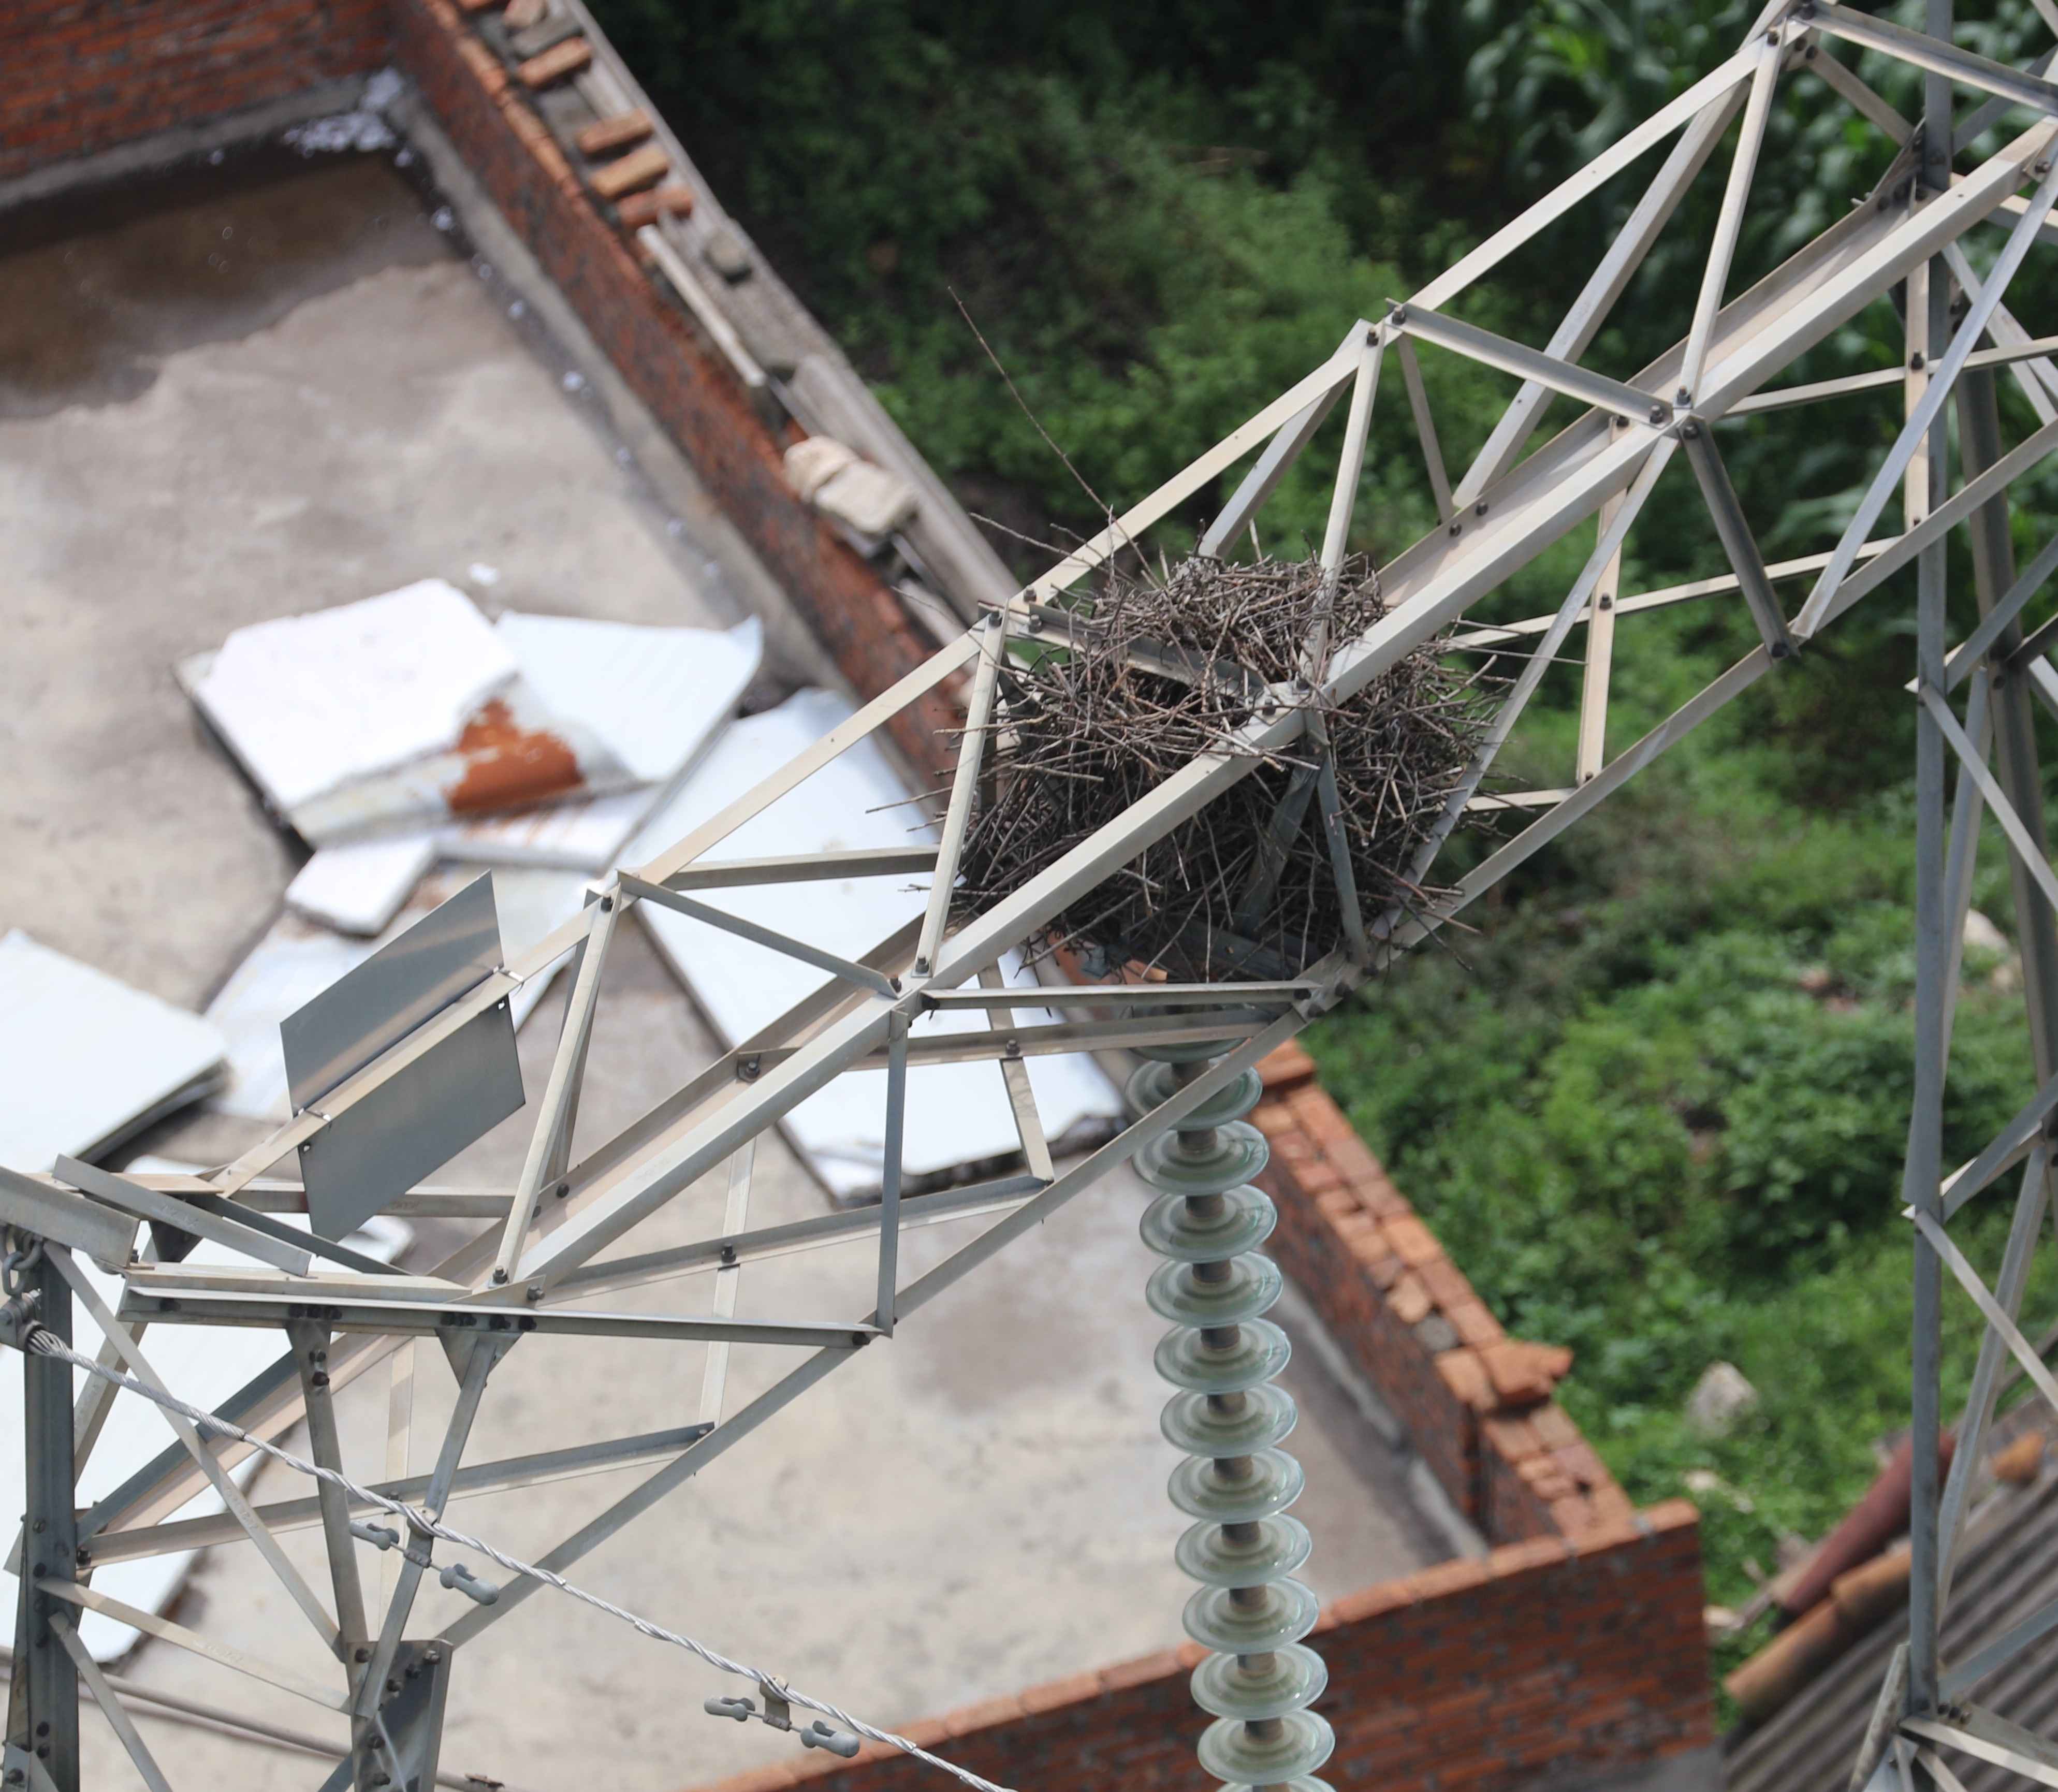niaowo: (900, 520, 1547, 1003)
